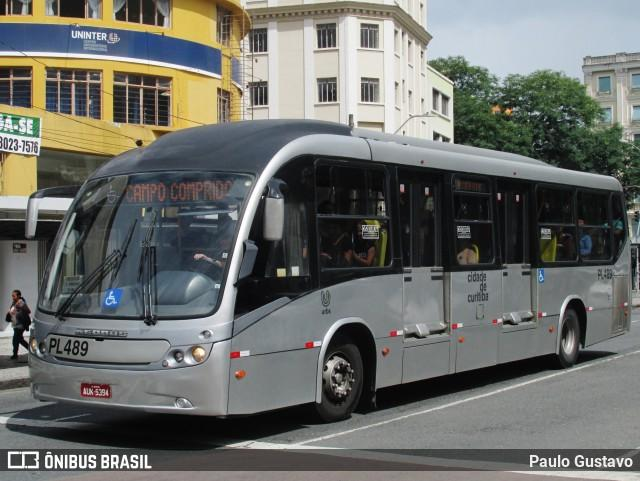CAMPO COMPRIDO: (122, 179, 236, 207)
